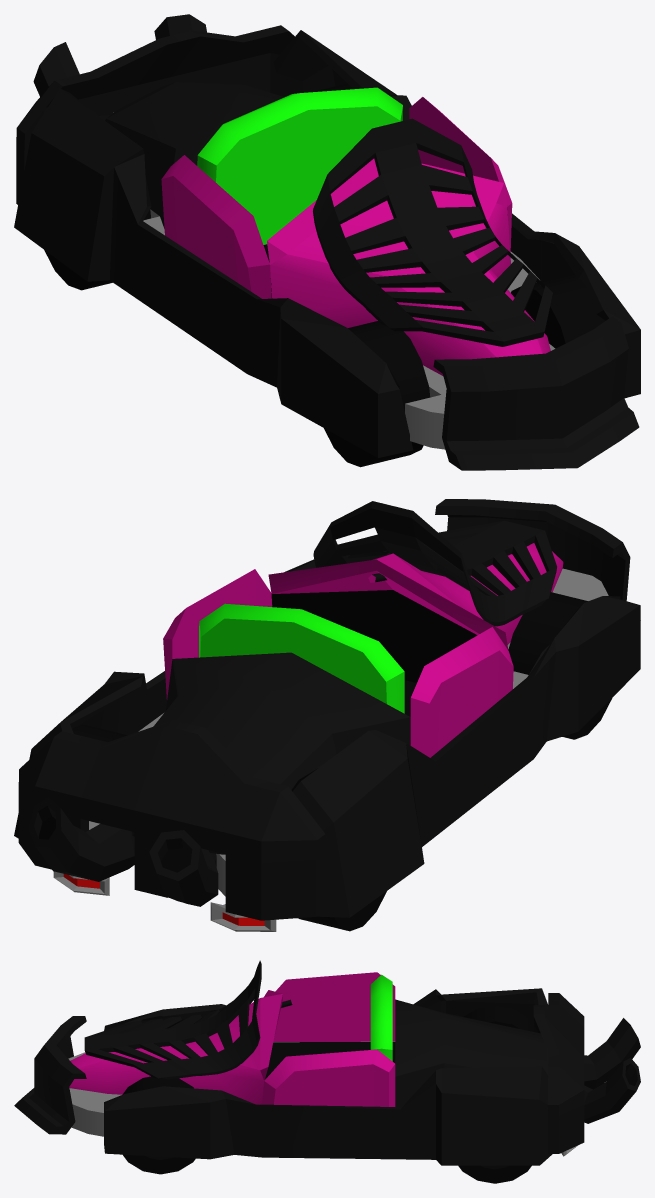
The model's file is car-parsche-sport-green_11.fbx.
The picture shows the model from 3 angles, top to bottom: view 1: azimuth 30°, elevation 25°; view 2: azimuth 150°, elevation 25°; view 3: azimuth 270°, elevation 25°; orthographic projection. The views are drawn at different scales.
Visible parts, largest first — view 1: car-parsche-sport-green_11; view 2: car-parsche-sport-green_11; view 3: car-parsche-sport-green_11.
Part boxes in pixels (x1,y1,x2,y2): car-parsche-sport-green_11: [14, 14, 640, 470]; car-parsche-sport-green_11: [14, 499, 640, 931]; car-parsche-sport-green_11: [14, 960, 640, 1183].
Size of the model in its own units: 0.978 by 2.37 by 0.7079.
